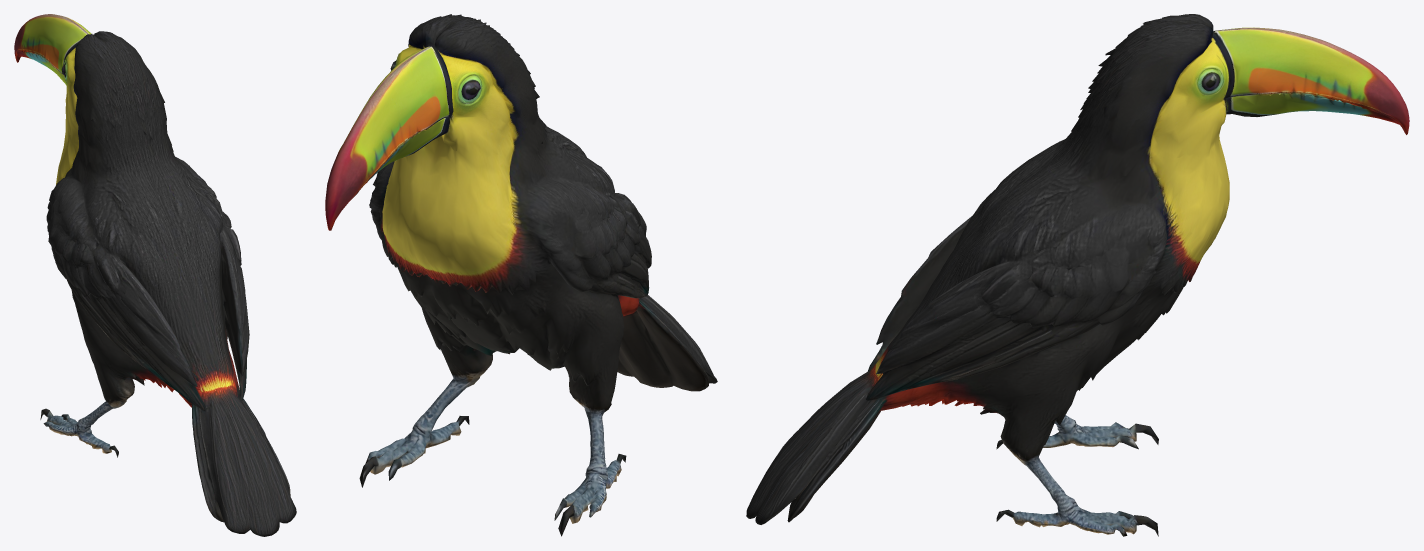
The model's file is toucan-tripo-h31.glb.
3 views of the same model, side by side, from view 1: azimuth 30°, elevation 25°; view 2: azimuth 150°, elevation 25°; view 3: azimuth 270°, elevation 25° (orthographic). The views are drawn at different scales.
Parts seen in each view (by area): view 1: tripo_node_896a9ee9-5550-43d6-a08a-b4beaaac7cb9; view 2: tripo_node_896a9ee9-5550-43d6-a08a-b4beaaac7cb9; view 3: tripo_node_896a9ee9-5550-43d6-a08a-b4beaaac7cb9.
Boxes of the visible parts, x1,y1,x2,y2 form: tripo_node_896a9ee9-5550-43d6-a08a-b4beaaac7cb9: [14, 14, 296, 536]; tripo_node_896a9ee9-5550-43d6-a08a-b4beaaac7cb9: [325, 14, 717, 536]; tripo_node_896a9ee9-5550-43d6-a08a-b4beaaac7cb9: [746, 14, 1409, 536].
Size of the model in its own units: 0.3648 by 0.8071 by 0.9796.
Materials: 1 (1 with a texture image).
